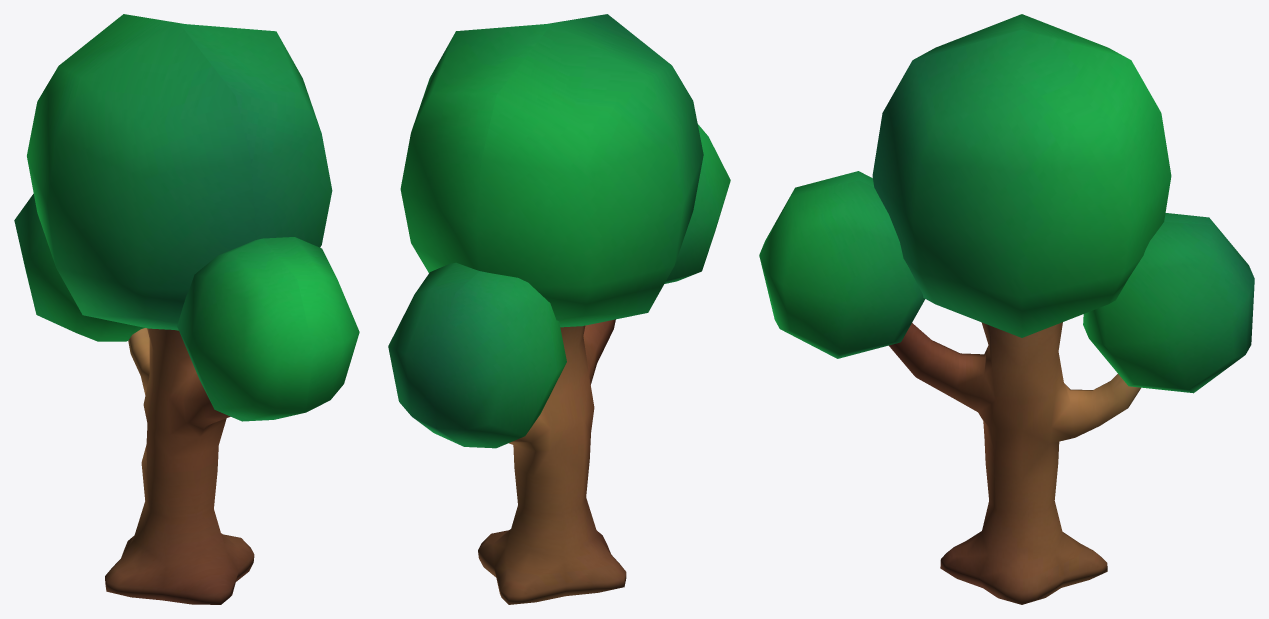
File: tree.fbx
The picture shows the model from 3 angles, left to right: view 1: azimuth 30°, elevation 25°; view 2: azimuth 150°, elevation 25°; view 3: azimuth 270°, elevation 25°; orthographic projection. The views are drawn at different scales.
Visible parts, largest first — view 1: tree; view 2: tree; view 3: tree.
Part boxes in pixels (box(x1,y1,x2,y2)): tree: box(14, 14, 359, 604); tree: box(388, 14, 730, 604); tree: box(759, 14, 1254, 604).
Bounding box in the file's own units: 416 × 837 × 690.
